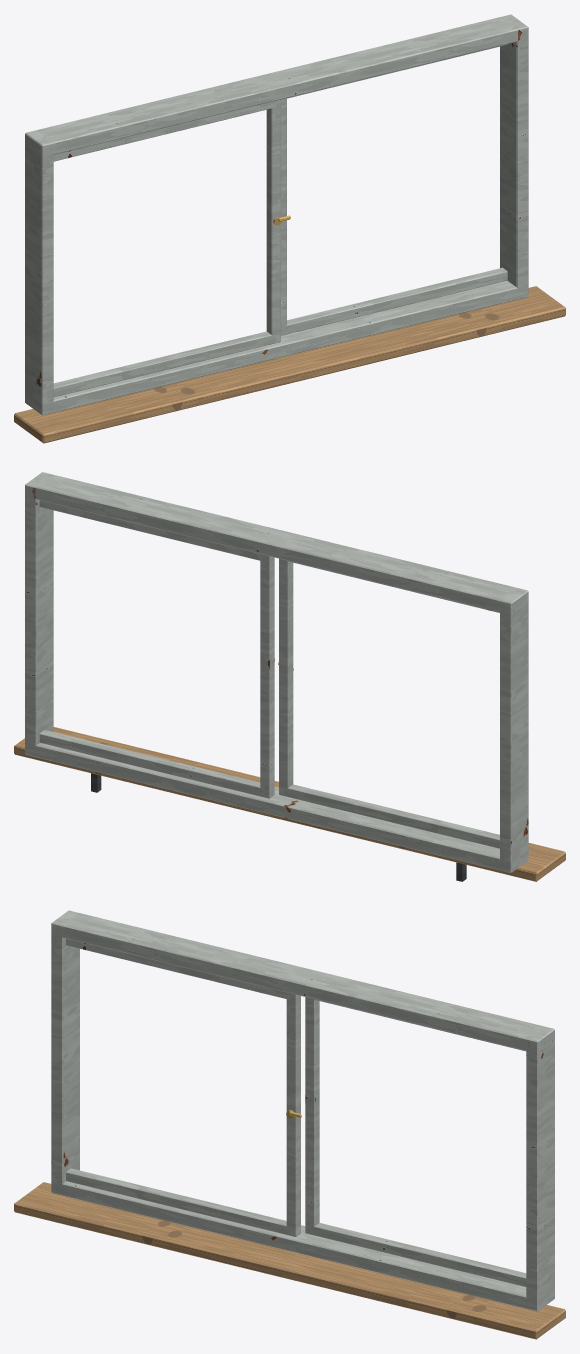
The model's file is gk_window.glb.
3 views of the same model, one above another, from view 1: azimuth 30°, elevation 25°; view 2: azimuth 150°, elevation 25°; view 3: azimuth 330°, elevation 25° (orthographic).
Parts seen in each view (by area): view 1: p; view 2: p; view 3: p.
Boxes of the visible parts, box(x1,y1,x2,y2) form: p: box(14, 14, 565, 443); p: box(14, 472, 565, 881); p: box(14, 910, 565, 1339).
Bounding box in the file's own units: 1.72 × 0.94 × 0.21.
Materials: 4 (4 with a texture image).
